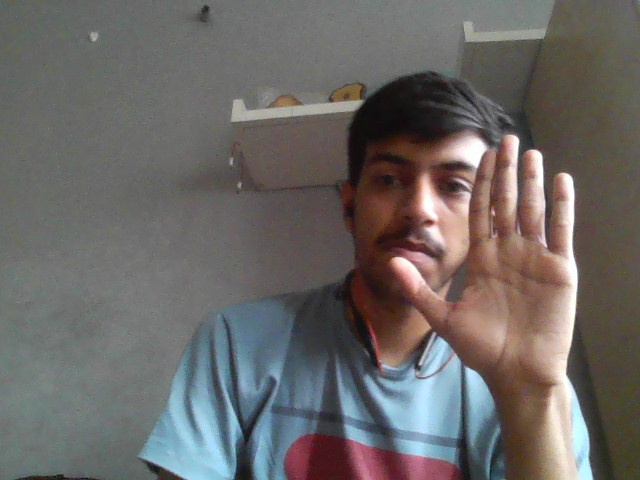Hello: (387, 130, 585, 377)
